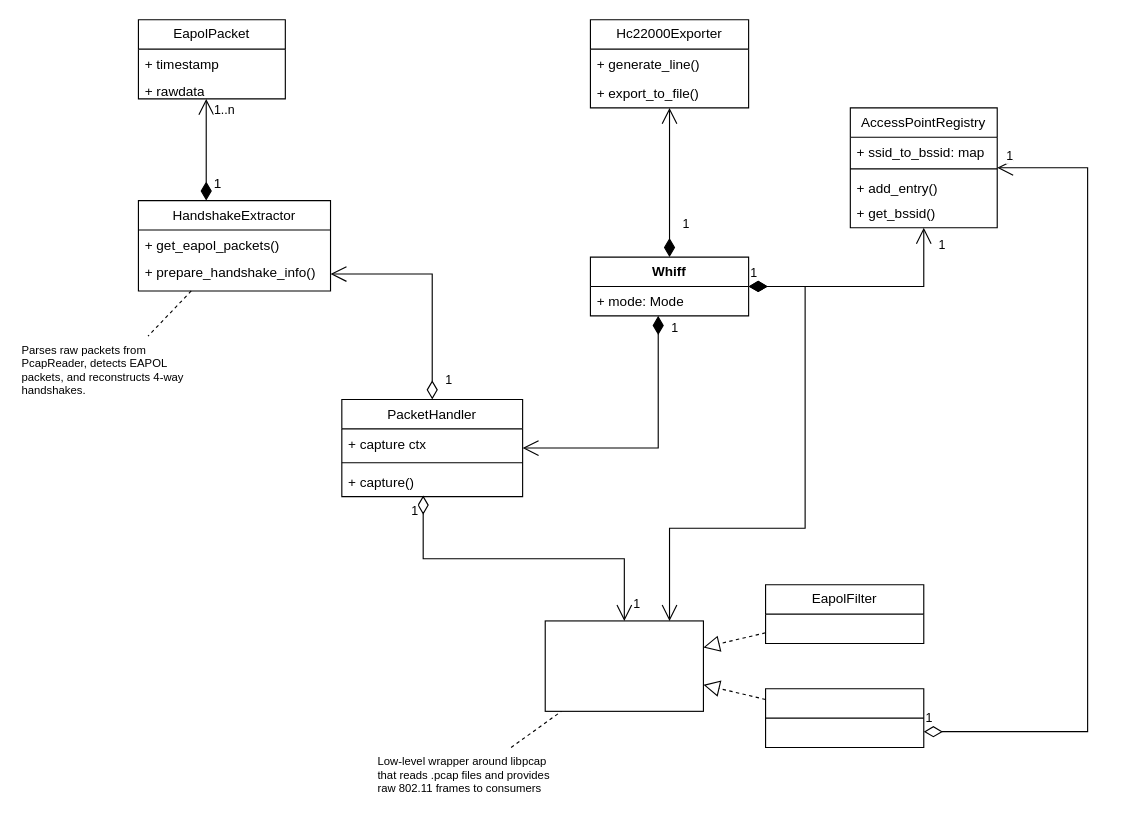
Some shapes in this 1127 by 827 pixel diagram are drawn without their labels. Each missing label, with the centre of its shape:
"<<Interface>> PacketFilter + match(): bool" belongs at [623,665].
"BeaconFIlter" belongs at [844,717].
